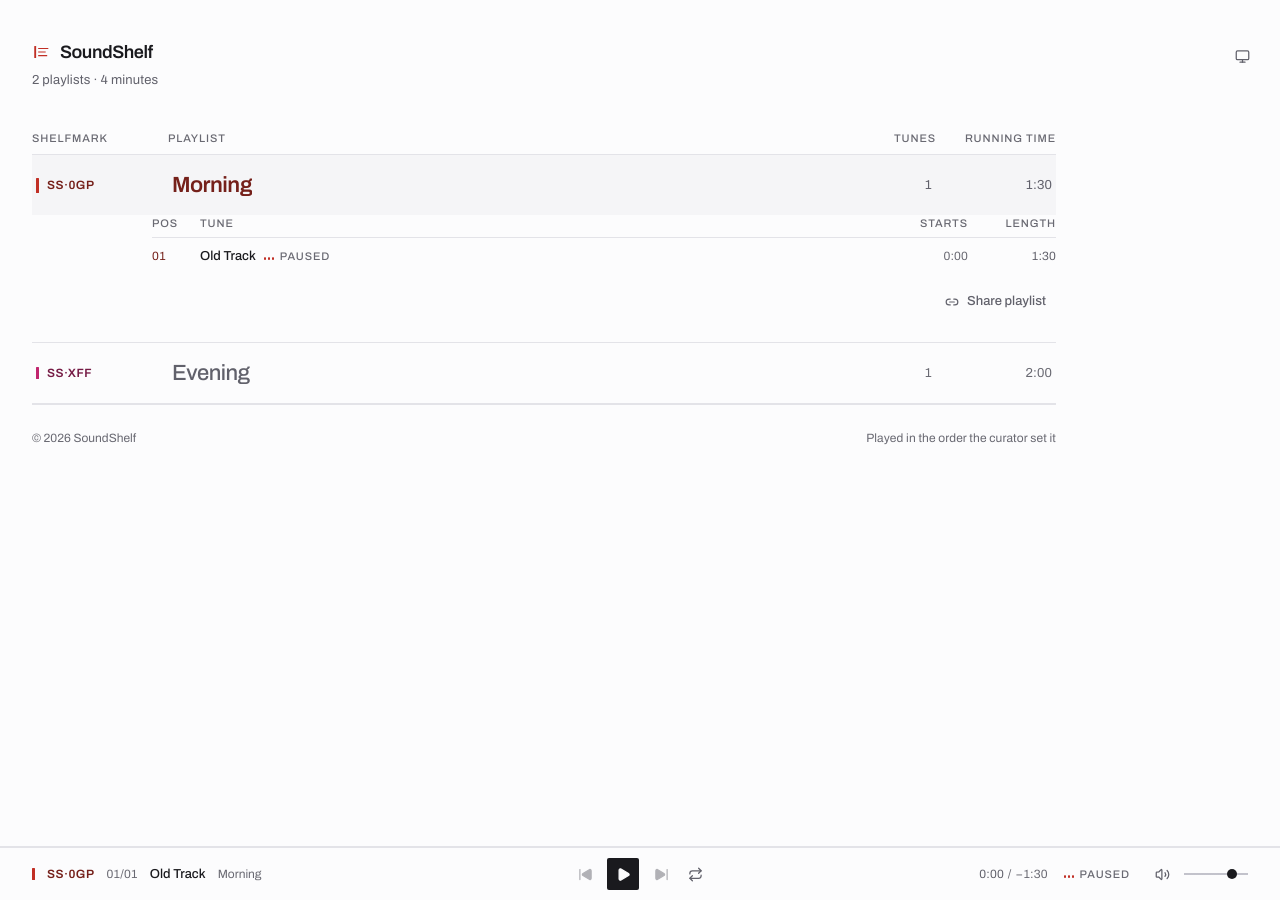
Test case: PlaylistBrowser › clears the previous playlist detail while a newly selected playlist loads
expect the heading "Old Track" is shown: met, box [150,864,206,884]
What coordinates should you click on to do the following:
click the button "Evening"
I would click on:
 (70, 373)
Its box is [32,343,1056,403].
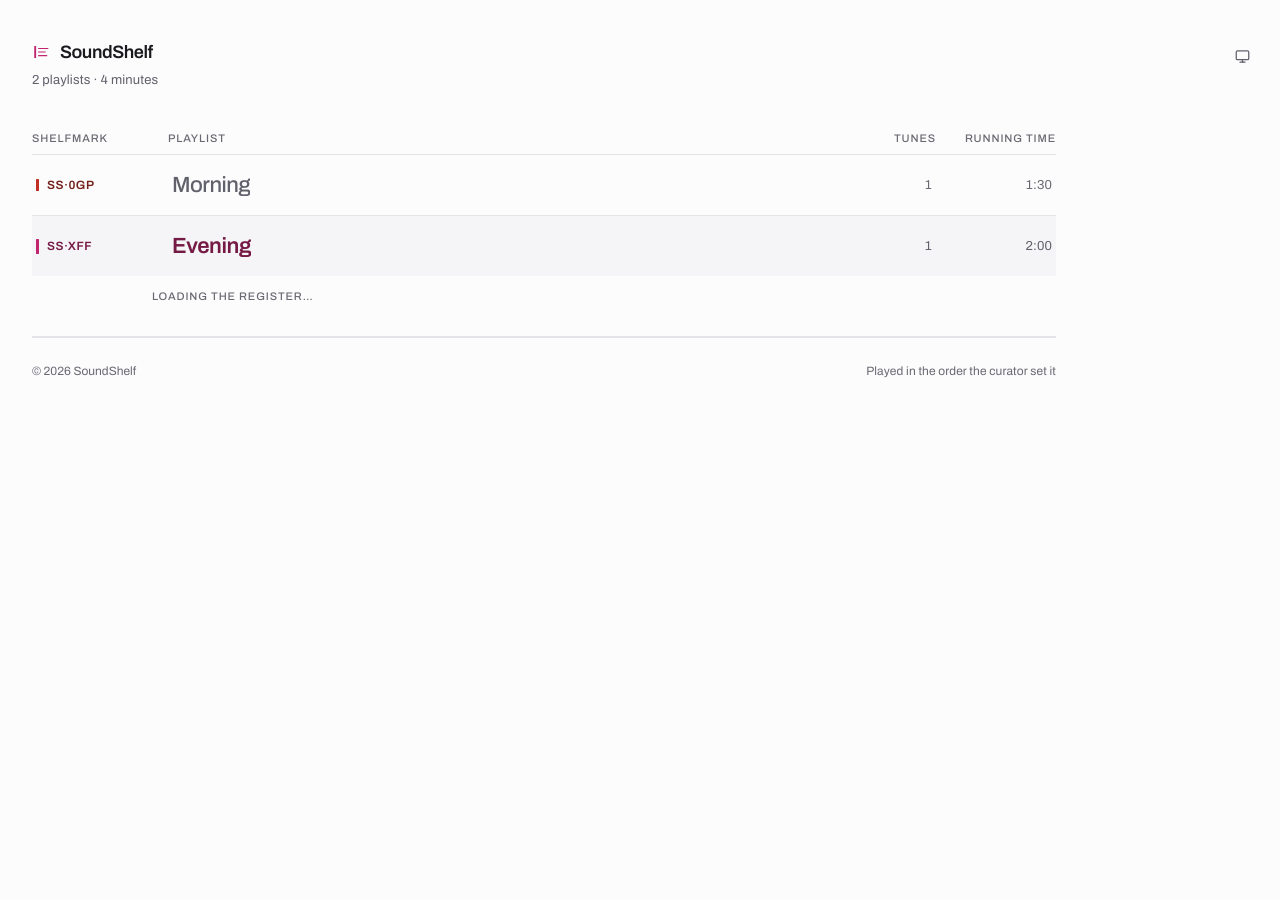
expect the button "Old Track" is gone: met
